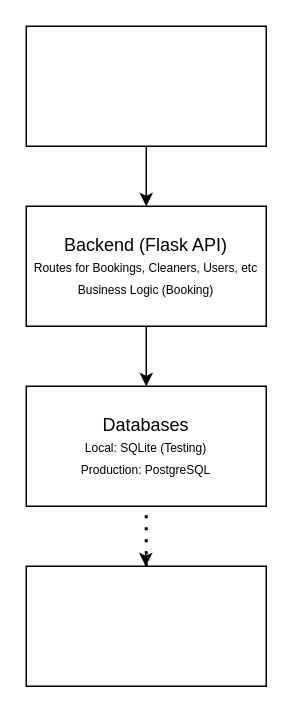
This 293x713 diagram has some shape labels left out. Here are the shapes that lost their labels. From the top down, the box of each, then its label:
(25, 25, 266, 146): Frontend (Flask UI) React / HTML / CSS Responsive Design
(25, 565, 266, 686): Optional Services Google Maps API Email / SMS Notifications
